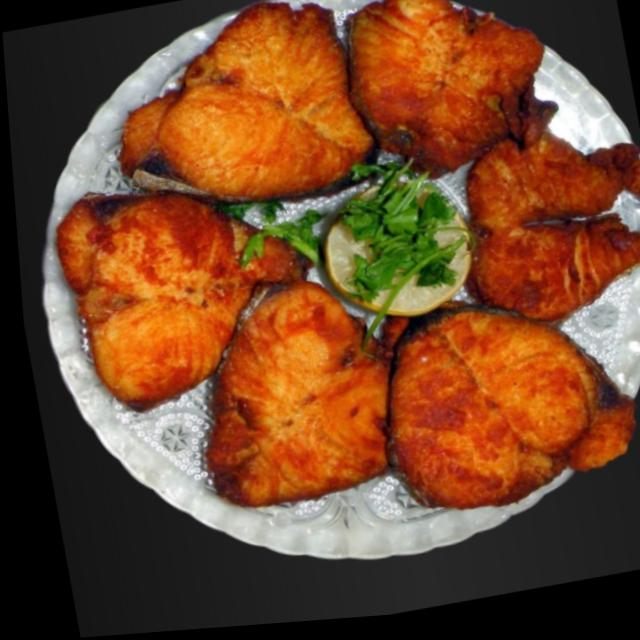FISH FRY: (57, 187, 635, 511), (114, 0, 640, 322)
